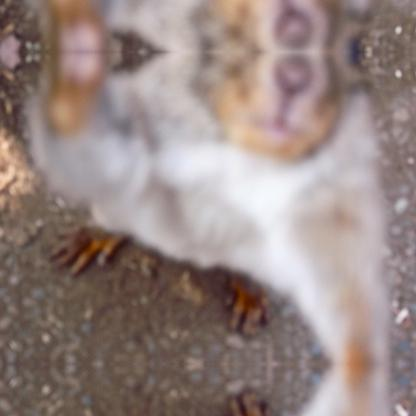Squirrel: (18, 52, 400, 362)
